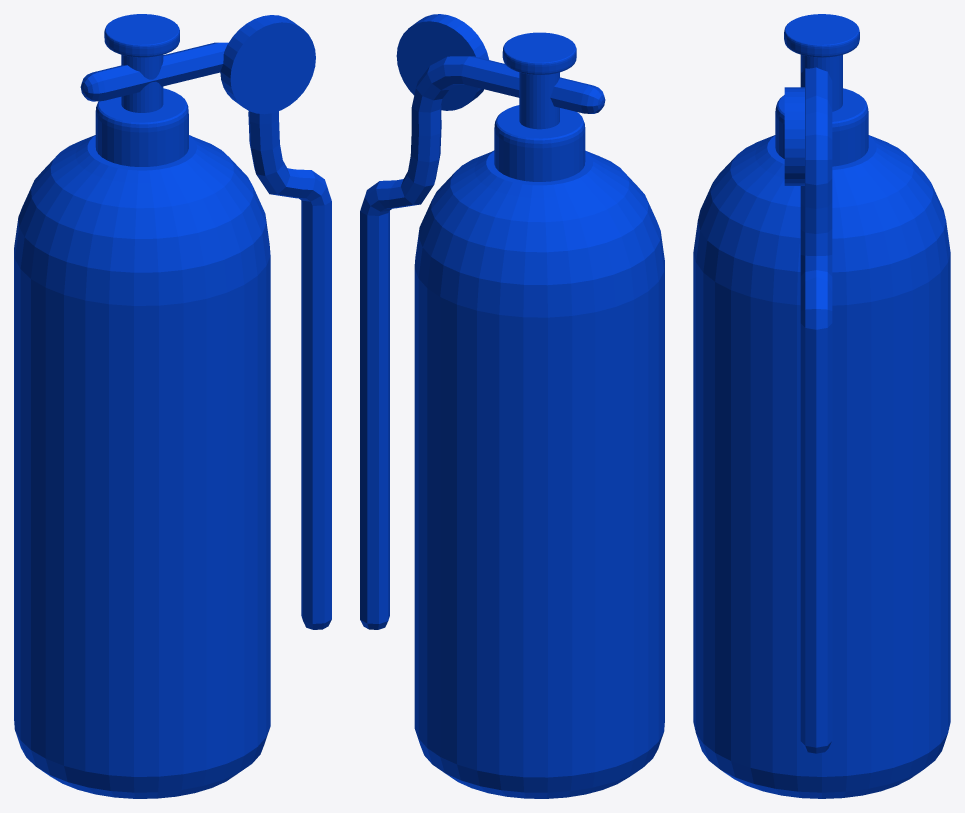
Rendered from NosBottle.fbx.
3 views of the same model, side by side, from view 1: azimuth 30°, elevation 25°; view 2: azimuth 150°, elevation 25°; view 3: azimuth 270°, elevation 25° (orthographic). The views are drawn at different scales.
Parts seen in each view (by area): view 1: Cylinder; view 2: Cylinder; view 3: Cylinder.
Part boxes in pixels (left/top/right/bottom): Cylinder: left=14, top=14, right=331, bottom=798; Cylinder: left=360, top=14, right=664, bottom=798; Cylinder: left=693, top=14, right=950, bottom=798.
Size of the model in its own units: 13.32 by 10 by 31.32.
